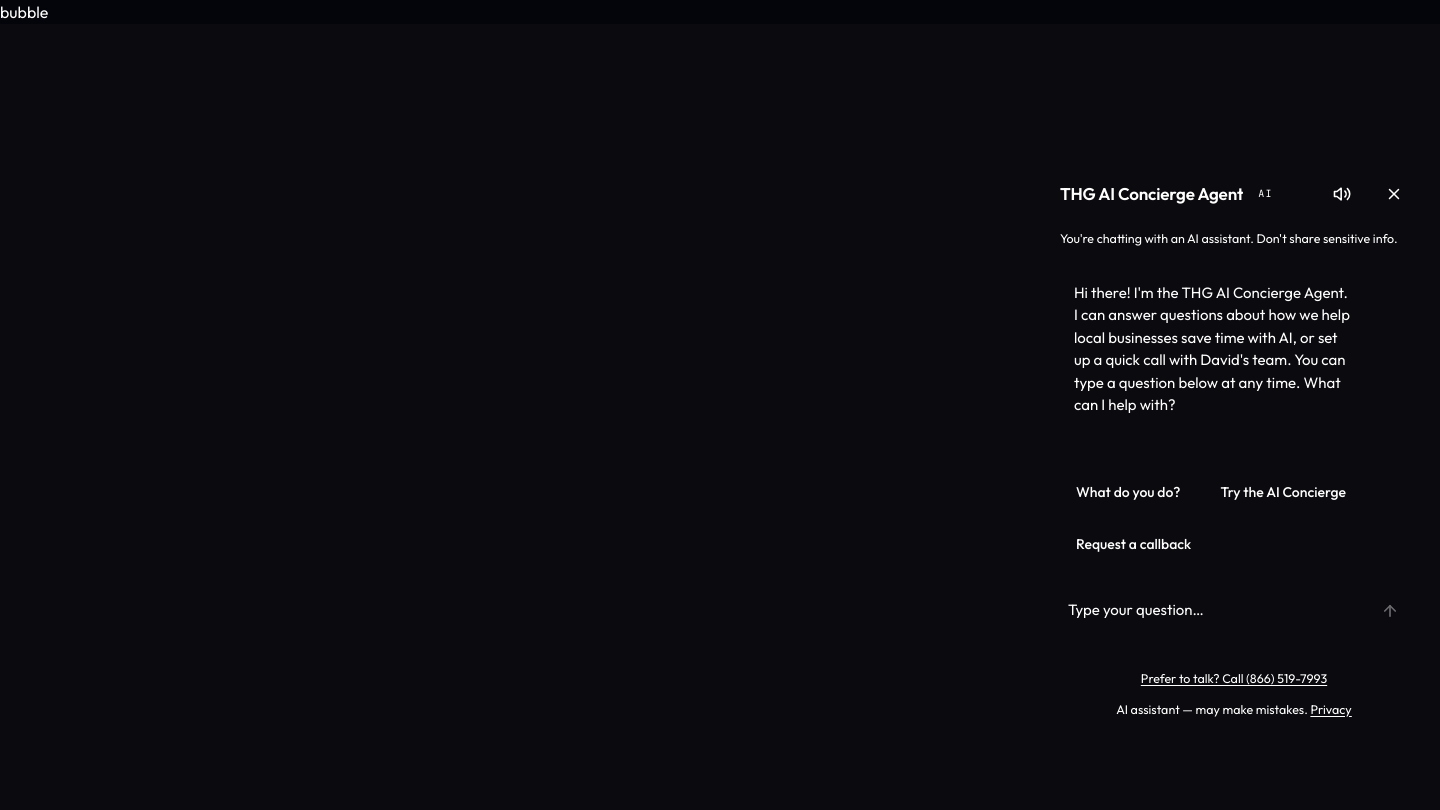
Test: ChatPanel voice: "Tap to hear replies" › a tap plays that reply (synchronously, inside the tap) and the pill goes once it is playing
Later steps or results of the test are not shown.
Type "hello" into the text box named "Message" at (1208, 610), box [1056,588,1360,632]
Then press Enter
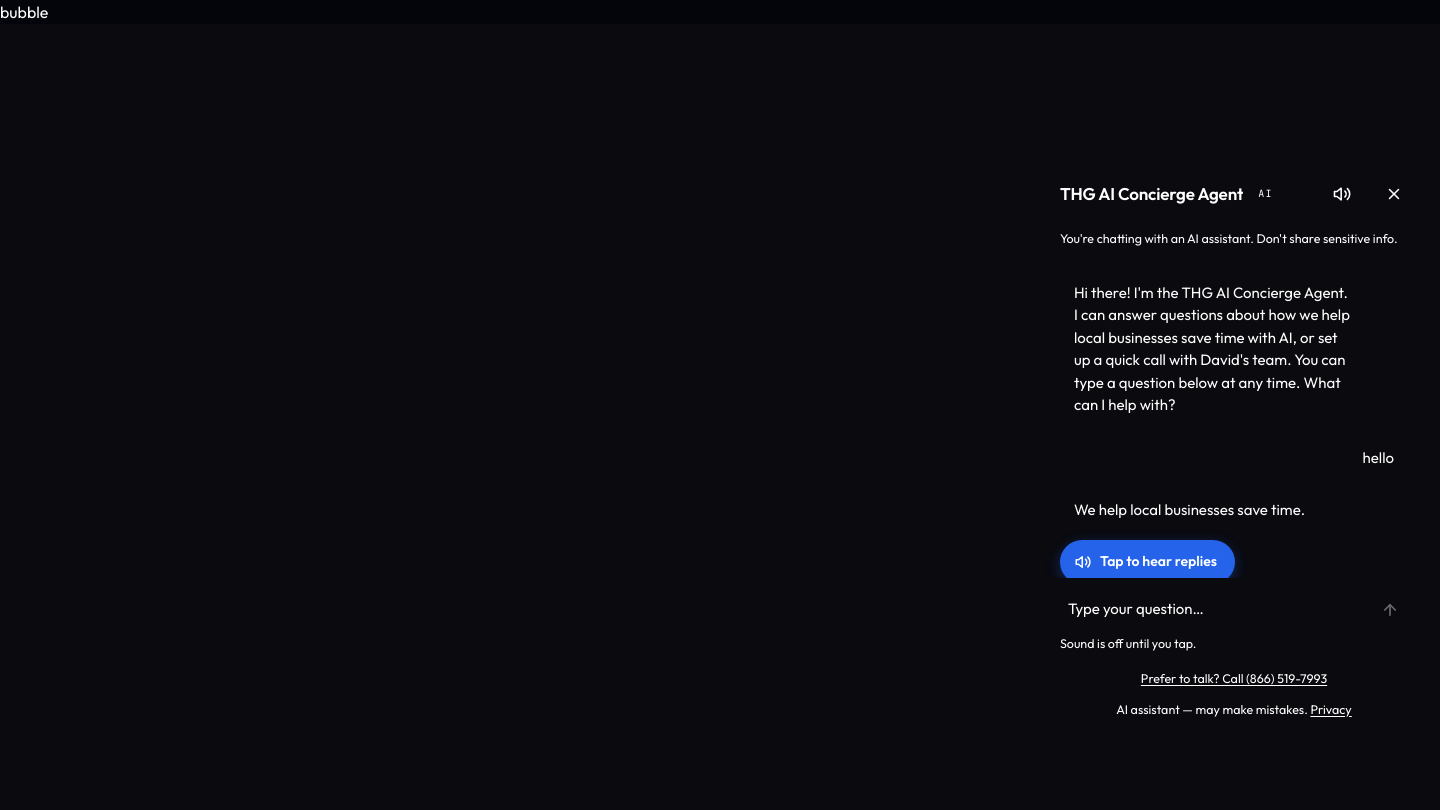
Click the button "Tap to hear replies" at (1147, 562), box [1060,540,1235,584]
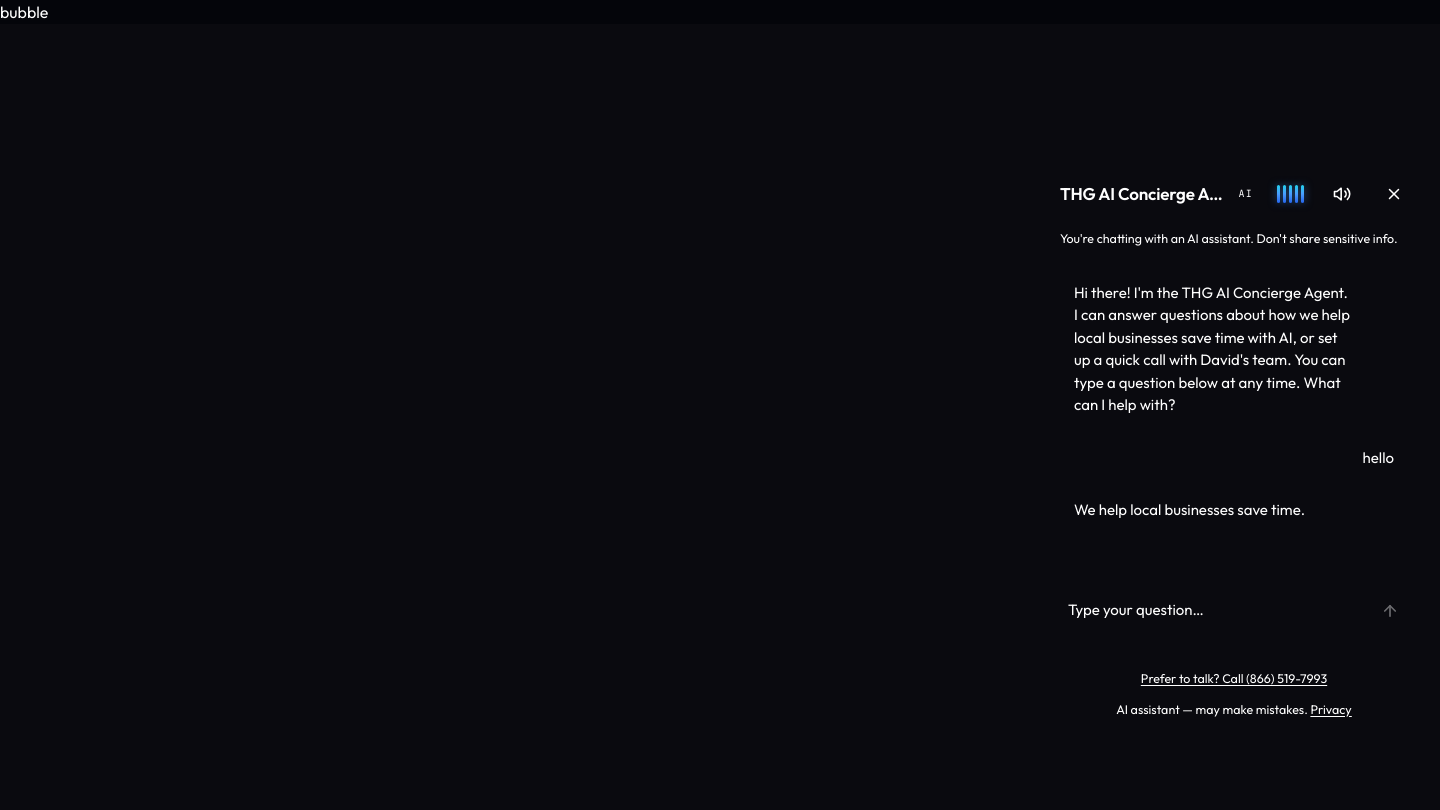
Expected: the button "Tap to hear replies" is gone
